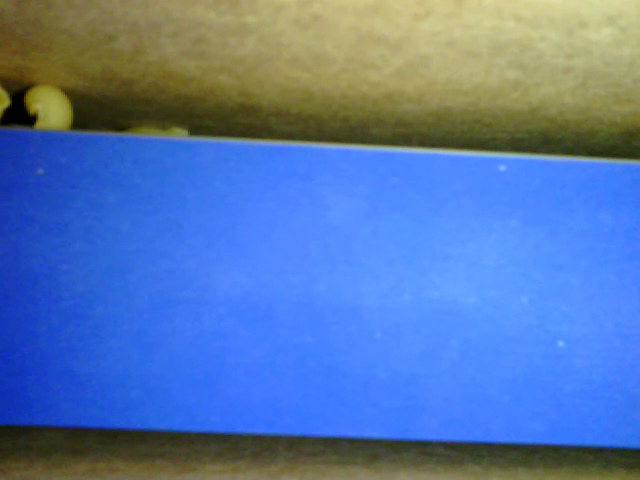shell: (24, 84, 75, 135)
